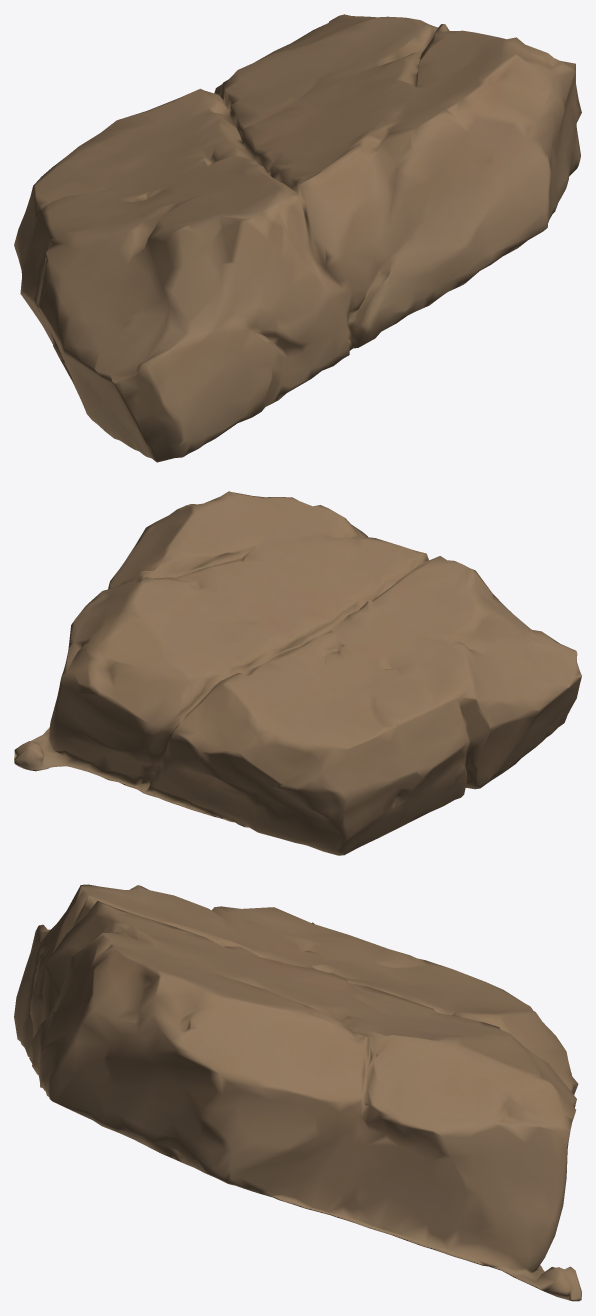
The model's file is faceted+rock+3d+model.glb.
3 renders of one model, top to bottom at view 1: azimuth 30°, elevation 25°; view 2: azimuth 150°, elevation 25°; view 3: azimuth 270°, elevation 25°, orthographic. The views are drawn at different scales.
Visible parts, largest first — view 1: tripo_node_c02ce4b5-ea43-40be-a632-f4a12c8e8f1f; view 2: tripo_node_c02ce4b5-ea43-40be-a632-f4a12c8e8f1f; view 3: tripo_node_c02ce4b5-ea43-40be-a632-f4a12c8e8f1f.
Part boxes in pixels (x1,y1,x2,y2): tripo_node_c02ce4b5-ea43-40be-a632-f4a12c8e8f1f: [14, 14, 581, 462]; tripo_node_c02ce4b5-ea43-40be-a632-f4a12c8e8f1f: [14, 491, 581, 855]; tripo_node_c02ce4b5-ea43-40be-a632-f4a12c8e8f1f: [14, 884, 581, 1301].
Size of the model in its own units: 1 by 0.5648 by 0.8396.
1 material, 1 textured.
